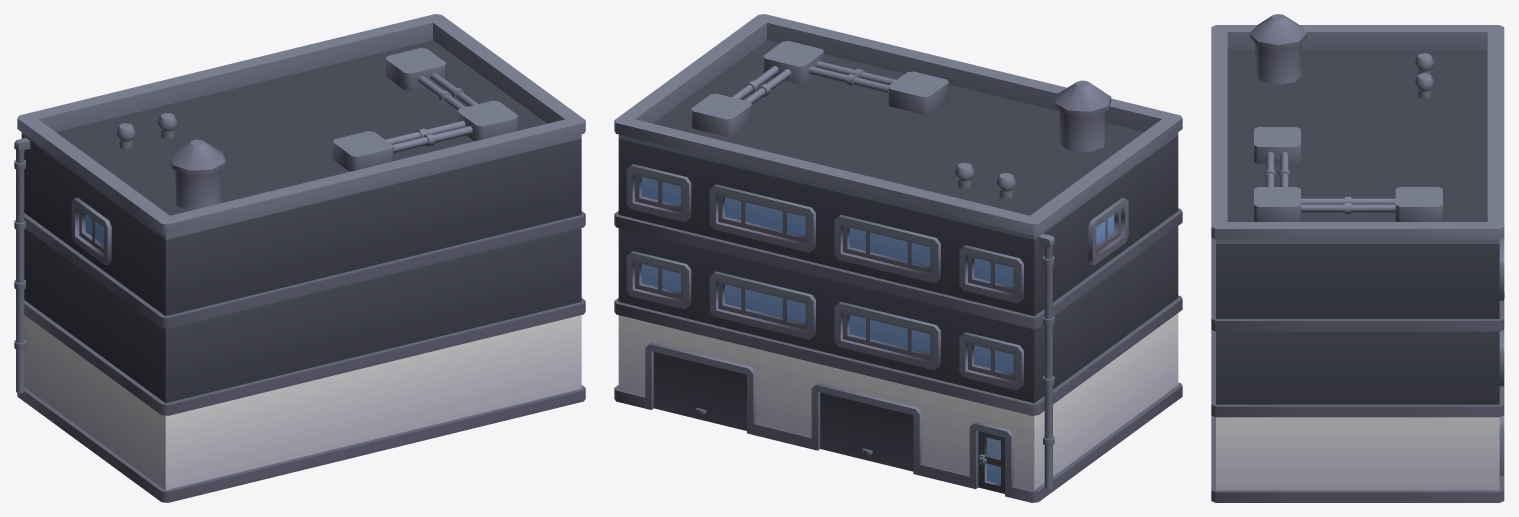
The model's file is building-a.glb.
3 views of the same model, side by side, from view 1: azimuth 30°, elevation 25°; view 2: azimuth 150°, elevation 25°; view 3: azimuth 270°, elevation 25° (orthographic).
Visible parts, largest first — view 1: building-a; view 2: building-a; view 3: building-a.
Part boxes in pixels (x1,y1,x2,y2): building-a: (14,14,585,502); building-a: (614,14,1182,502); building-a: (1211,14,1504,502).
Bounding box in the file's own units: 2.08 × 1.47 × 1.24.
1 material, 1 textured.
